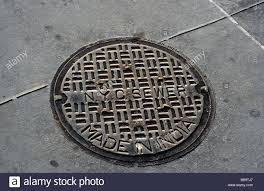manhole: (41, 20, 232, 170)
